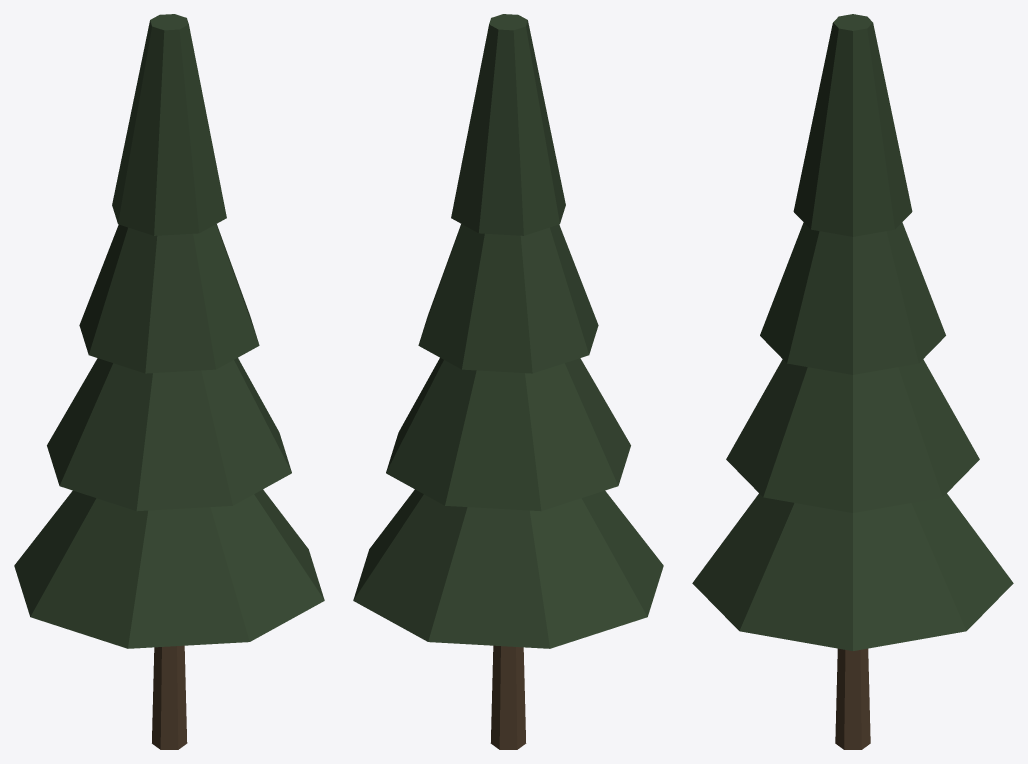
Rendered from tree_pine.glb.
3 views of the same model, side by side, from view 1: azimuth 30°, elevation 25°; view 2: azimuth 150°, elevation 25°; view 3: azimuth 270°, elevation 25° (orthographic).
Visible parts, largest first — view 1: tree_pine; view 2: tree_pine; view 3: tree_pine.
Part boxes in pixels (box(x1,y1,x2,y2)): tree_pine: box(14, 14, 324, 749); tree_pine: box(353, 14, 663, 749); tree_pine: box(692, 14, 1013, 749).
Bounding box in the file's own units: 4 × 9.9 × 4.
